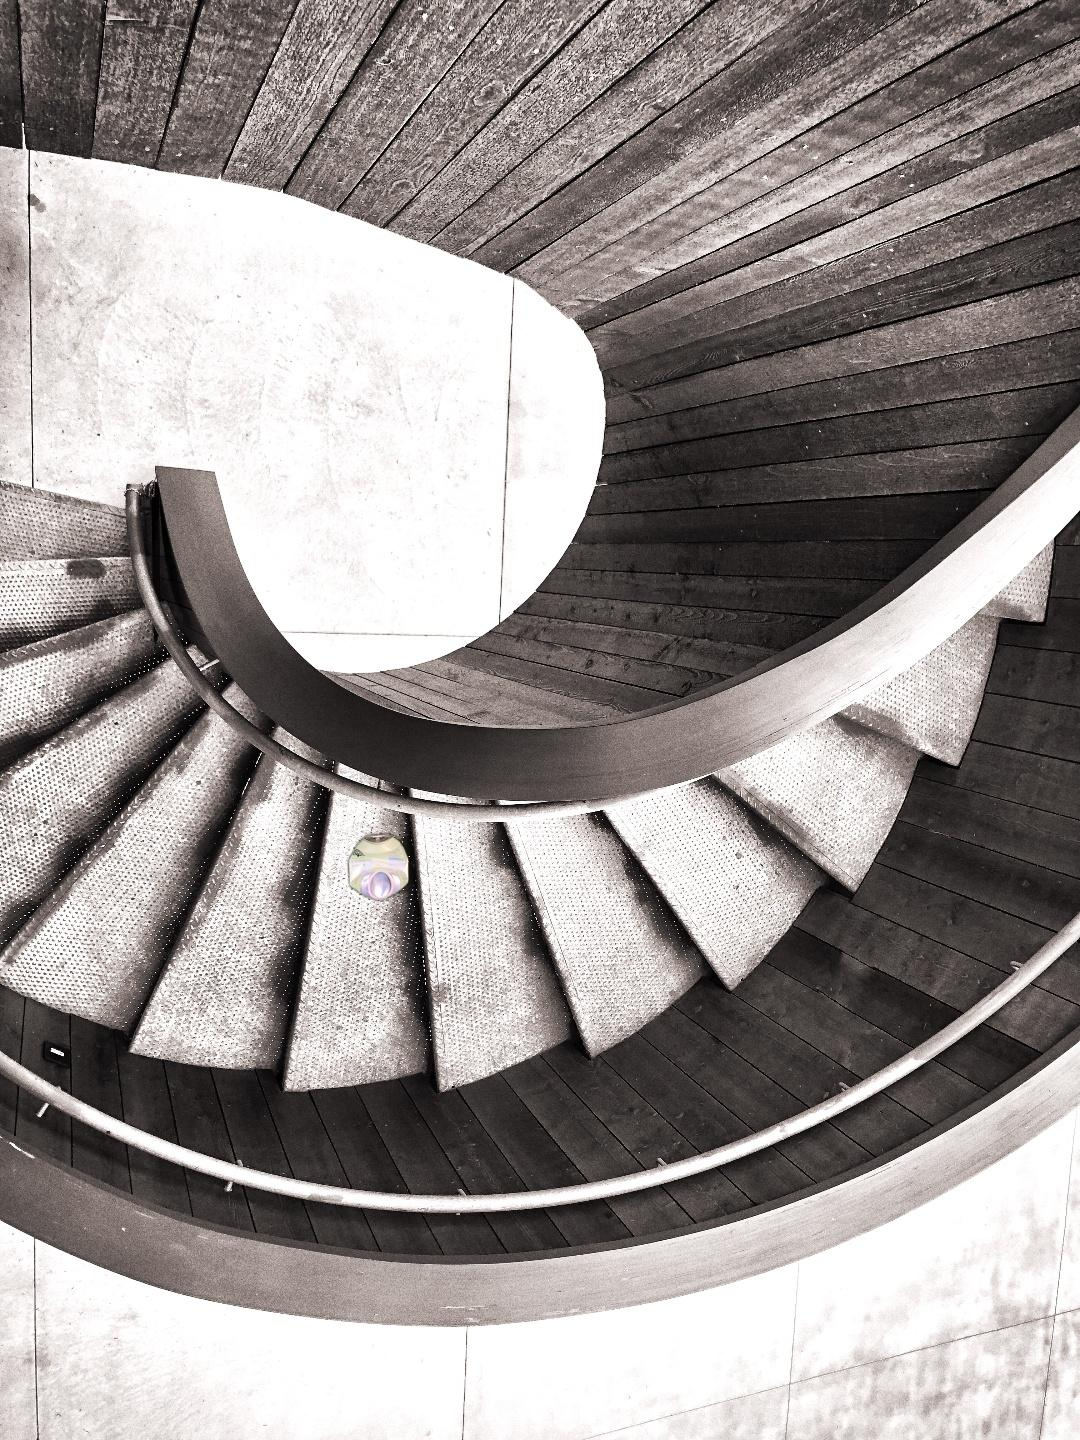metal-cans: (143, 828, 414, 1042)
